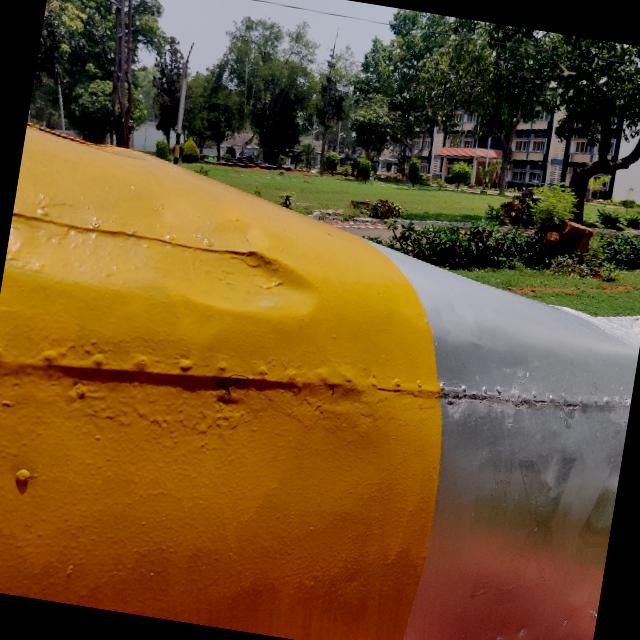dent: (142, 192, 356, 351)
